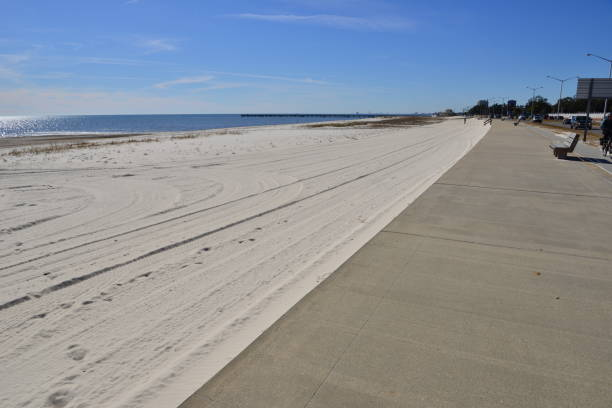human_foot_print: (66, 330, 89, 361), (46, 377, 68, 407)
vehicle_track: (0, 146, 434, 310), (0, 137, 433, 270)
